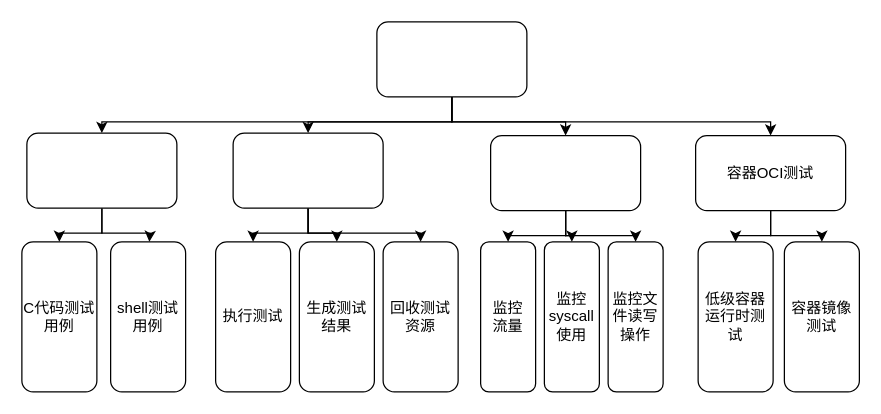
The diagram is 881 pixels wide and 414 high, and some of its shapes have lost their labels. Here are the shapes that lost their labels. From the top down, the centre of each, then its label:
At point (451, 59): "systest测试框架".
At point (101, 170): "编写测试模块".
At point (307, 170): "执行测试模块".
At point (565, 172): "ebpf工具".
